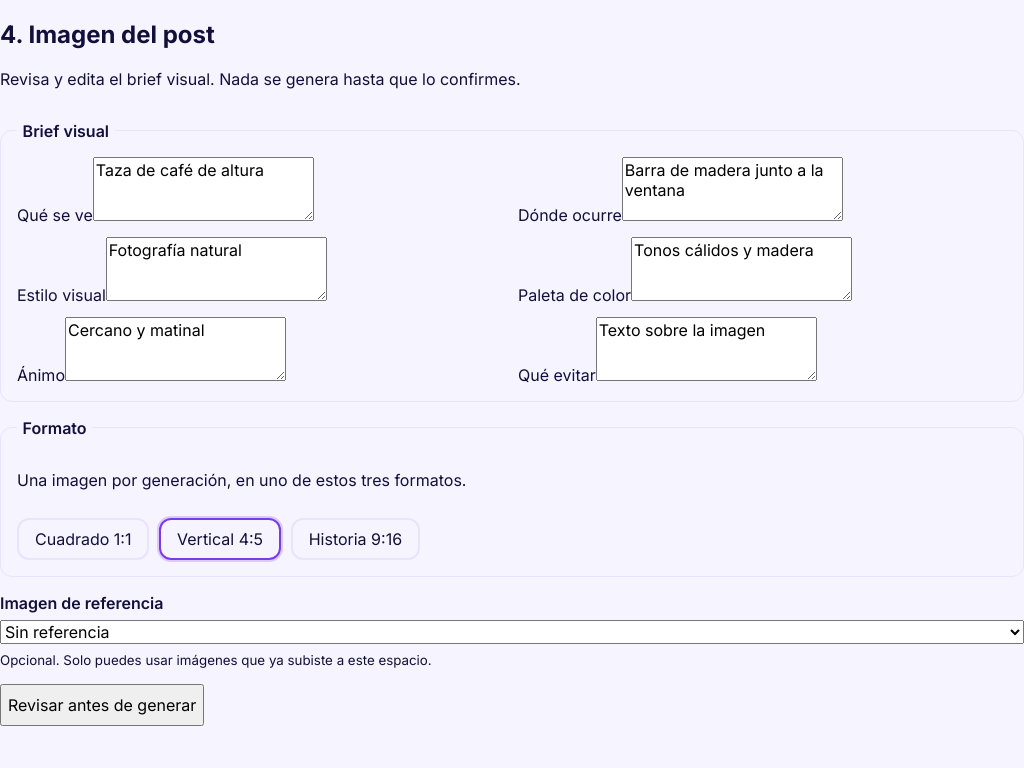
ImageGenerationStep › a refused preflight explains itself and offers no confirmation
Click the button "Revisar antes de generar": click(102, 705) [0,684,204,726]
(page scrolled)
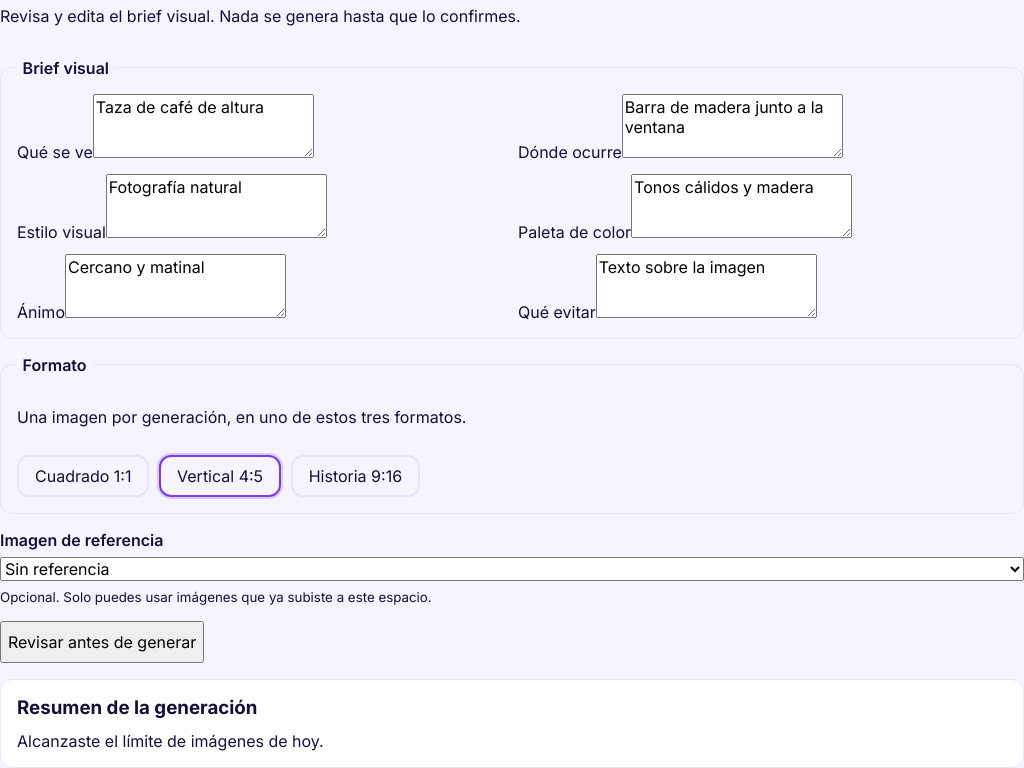
expect the text "Alcanzaste el límite de imágenes de hoy." is shown: met, box [17,731,324,751]
